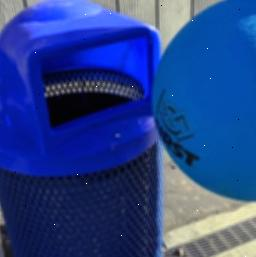algae: (158, 0, 256, 202)
